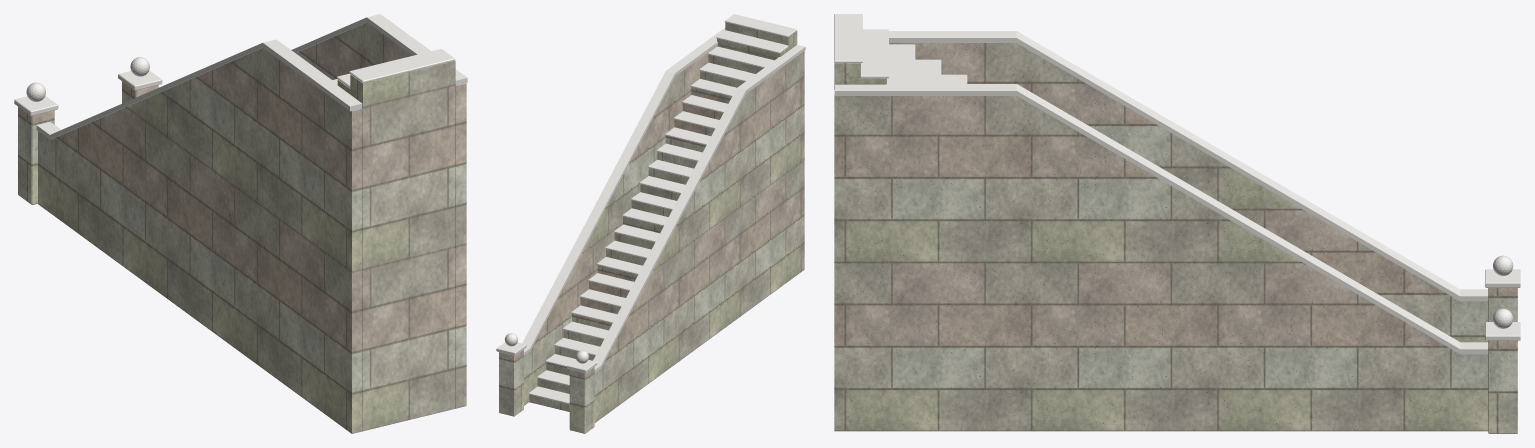
Rendered from stair.glb.
3 views of the same model, side by side, from view 1: azimuth 30°, elevation 25°; view 2: azimuth 150°, elevation 25°; view 3: azimuth 270°, elevation 25° (orthographic). The views are drawn at different scales.
Parts seen in each view (by area): view 1: stair_stone, stair_marble_w; view 2: stair_stone, stair_marble_w; view 3: stair_stone, stair_marble_w.
Part boxes in pixels (<box>): stair_stone: <box>18,22,466,433</box>; stair_marble_w: <box>14,14,467,139</box>; stair_stone: <box>499,22,804,433</box>; stair_marble_w: <box>496,14,805,404</box>; stair_stone: <box>834,43,1517,433</box>; stair_marble_w: <box>834,14,1520,354</box>.
Bounding box in the file's own units: 1.7 × 4.32 × 7.37.
2 materials, 1 textured.
